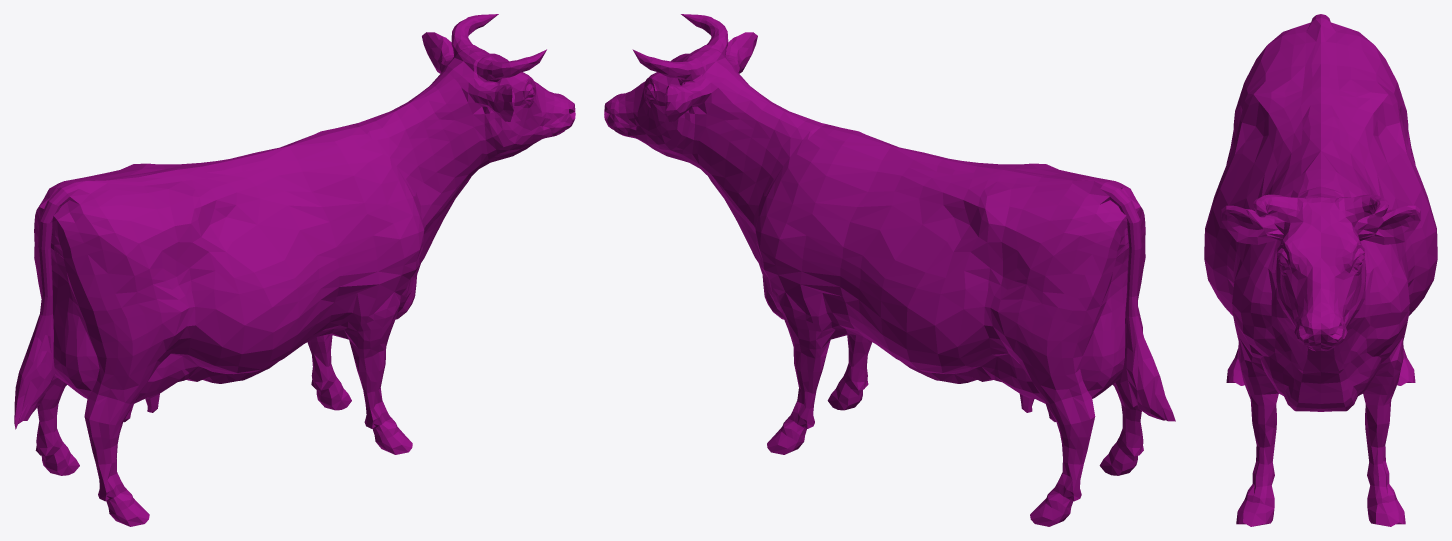
File: cow.obj
3 renders of one model, left to right at view 1: azimuth 30°, elevation 25°; view 2: azimuth 150°, elevation 25°; view 3: azimuth 270°, elevation 25°, orthographic. The views are drawn at different scales.
Visible parts, largest first — view 1: cow; view 2: cow; view 3: cow.
Part boxes in pixels (x1=…): cow: x1=14, y1=14, x2=575, y2=526; cow: x1=604, y1=14, x2=1175, y2=526; cow: x1=1204, y1=14, x2=1437, y2=526.
Bounding box in the file's own units: 10.44 × 6.4 × 3.4.
